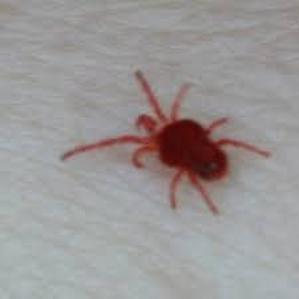spider mite: (71, 66, 261, 245)
